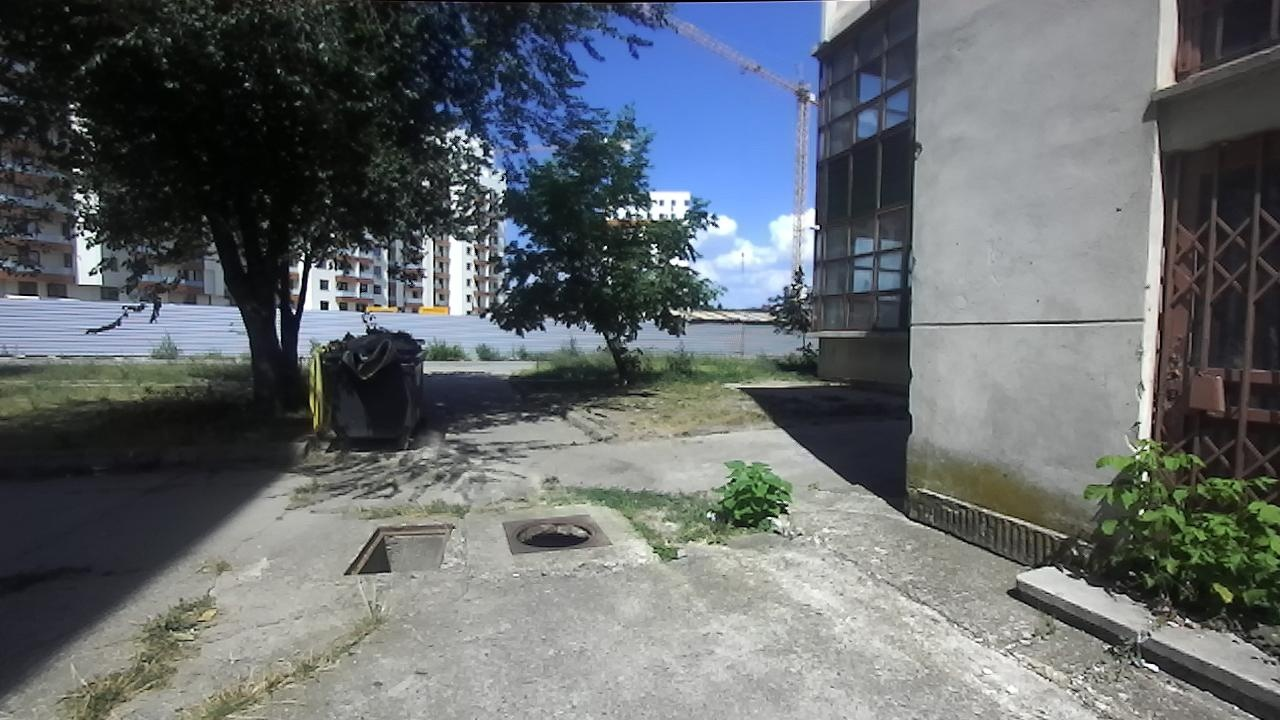drain: (340, 515, 460, 583), (513, 517, 598, 550)
